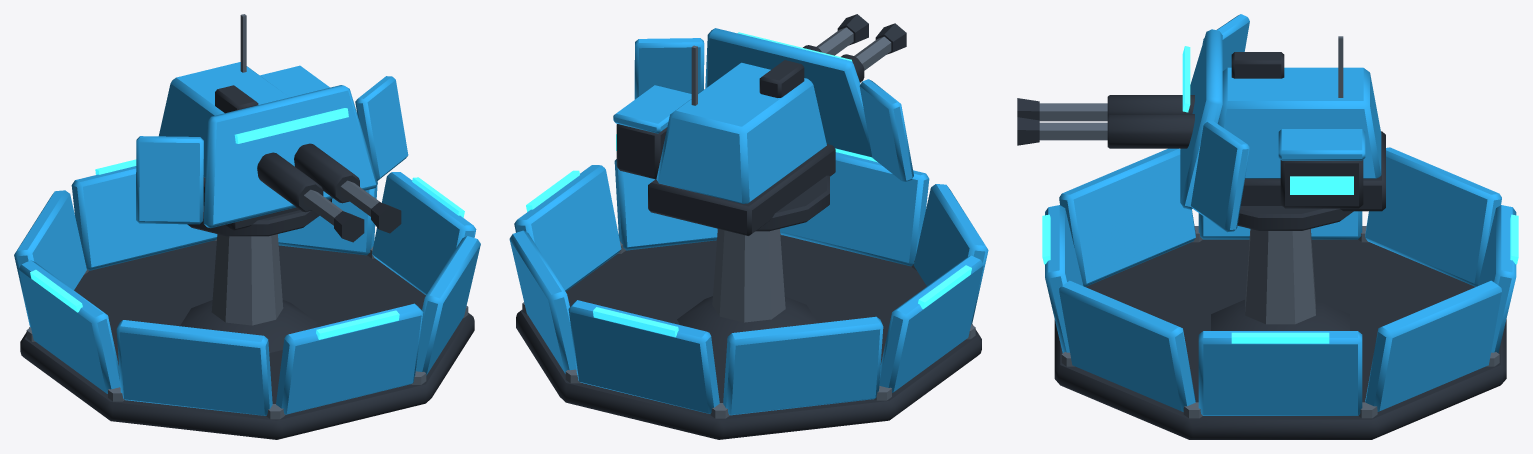
Rendered from mgNest.glb.
The picture shows the model from 3 angles, left to right: view 1: azimuth 30°, elevation 25°; view 2: azimuth 150°, elevation 25°; view 3: azimuth 270°, elevation 25°; orthographic projection. The views are drawn at different scales.
Visible parts, largest first — view 1: base, turret, kick_barrels; view 2: base, turret, kick_barrels; view 3: base, turret, kick_barrels.
Boxes of the visible parts, bbox=[...] form: base: bbox=[14, 159, 480, 439]; turret: bbox=[136, 14, 408, 236]; kick_barrels: bbox=[257, 143, 401, 242]; base: bbox=[509, 148, 988, 439]; turret: bbox=[613, 28, 913, 235]; kick_barrels: bbox=[803, 14, 906, 82]; base: bbox=[1042, 147, 1518, 439]; turret: bbox=[1180, 14, 1385, 232]; kick_barrels: bbox=[1017, 95, 1194, 148].
Bounding box in the file's own units: 12.66 × 9.45 × 13.33.
